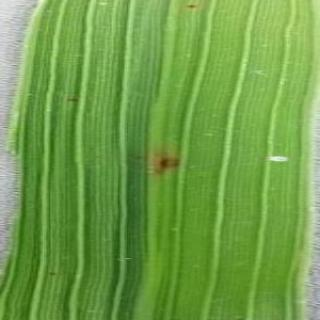bercak-Cokelat: (135, 142, 180, 181)
